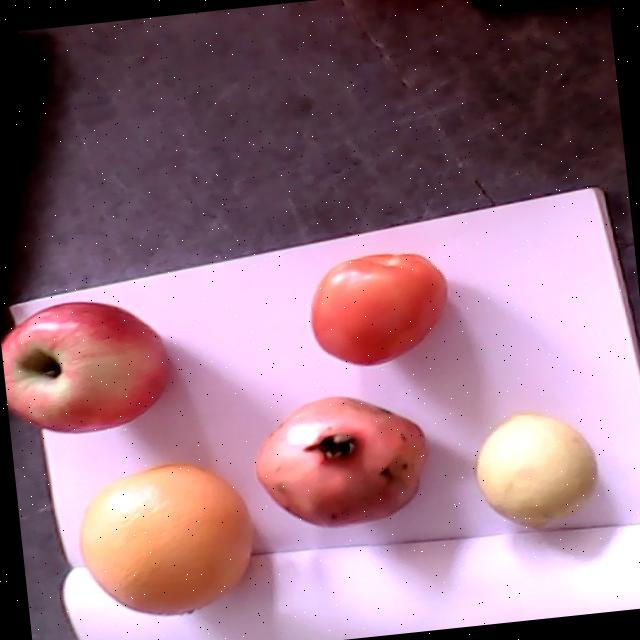apple: (1, 301, 170, 432)
lemon: (476, 411, 596, 529)
orange: (80, 463, 253, 614)
pomegranate: (256, 394, 424, 526)
tomato: (310, 252, 446, 364)
